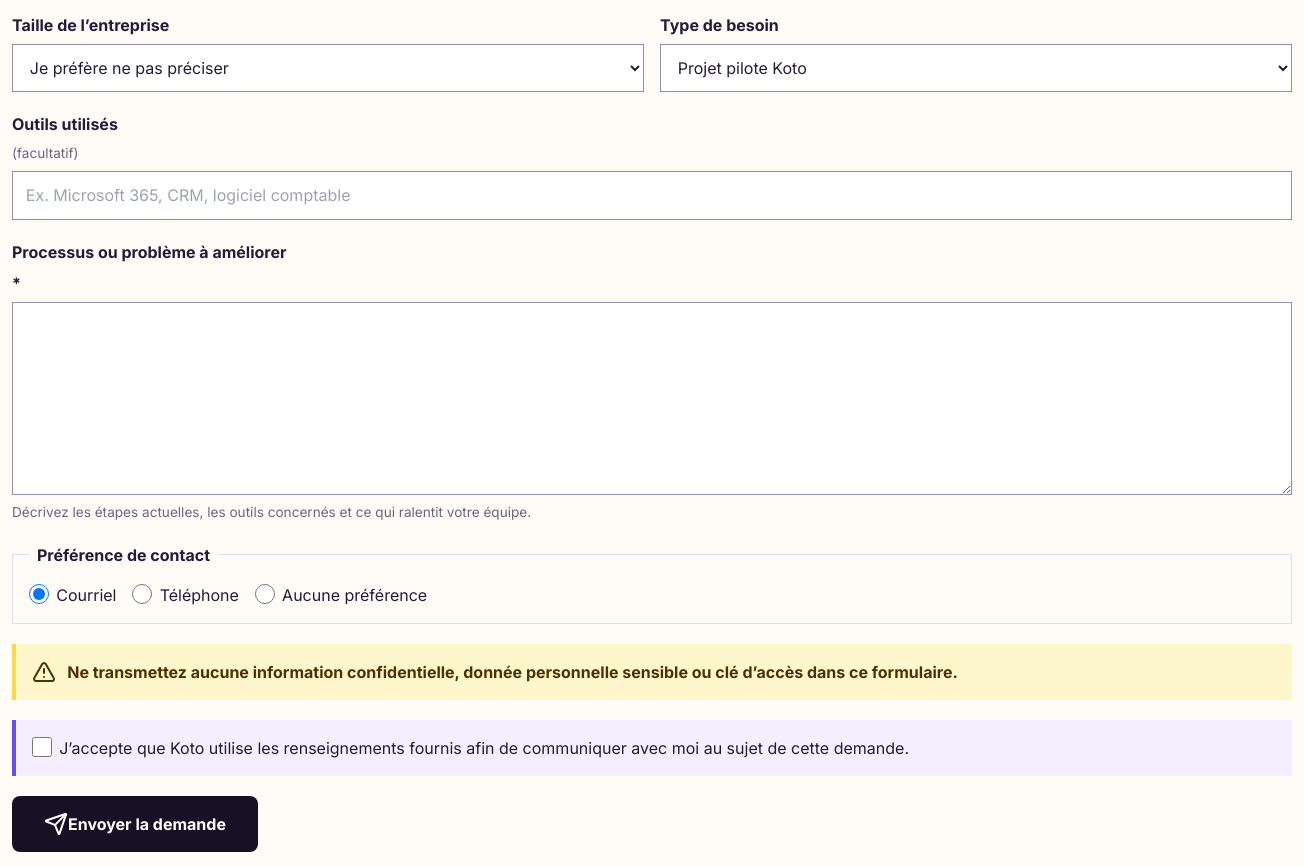
Test: ContactForm › shows accessible validation errors
(page scrolled)
Click the button "Envoyer la demande" at (135, 824), box [12,796,258,852]
(page scrolled)
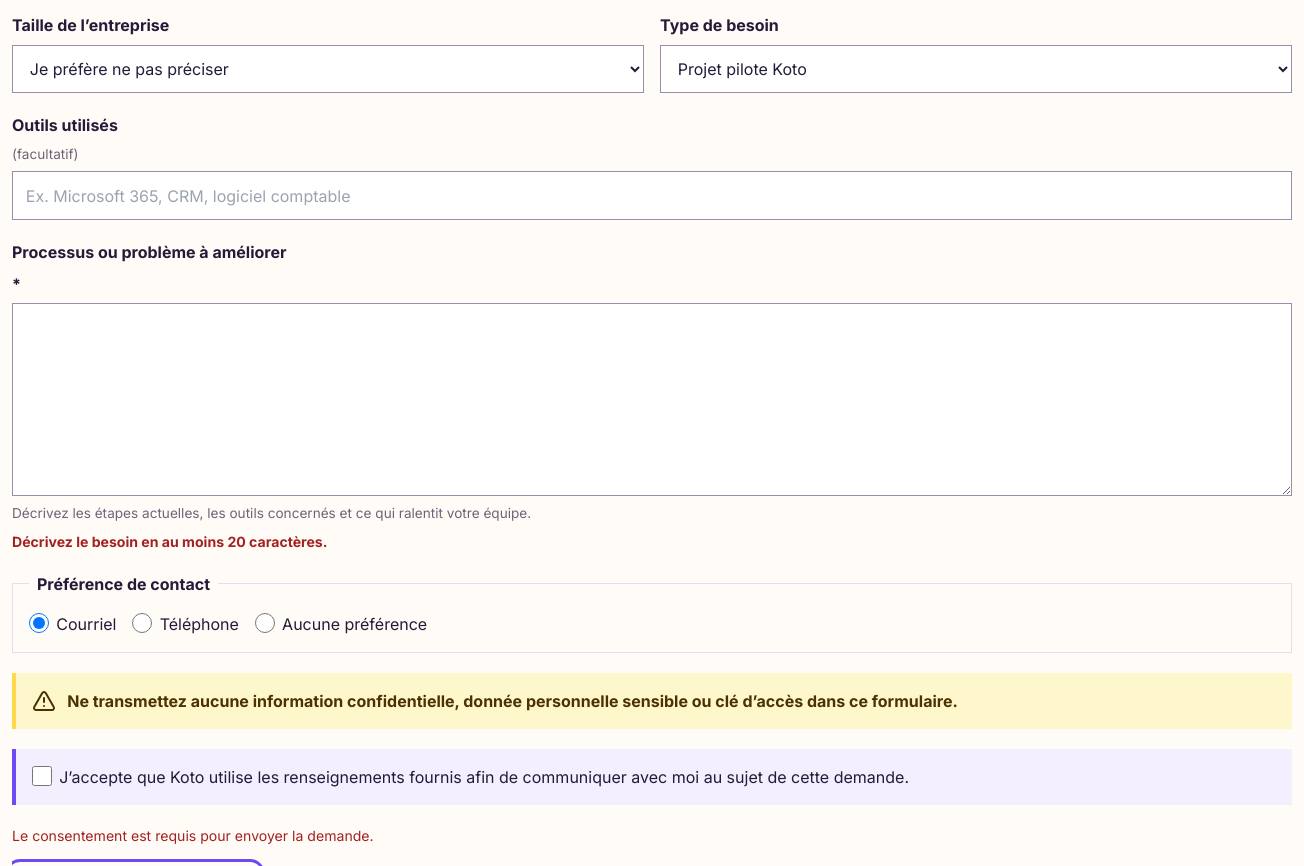
Check: the text "Le consentement est requis pour envoyer la demande." is shown, box [12,827,374,844]
